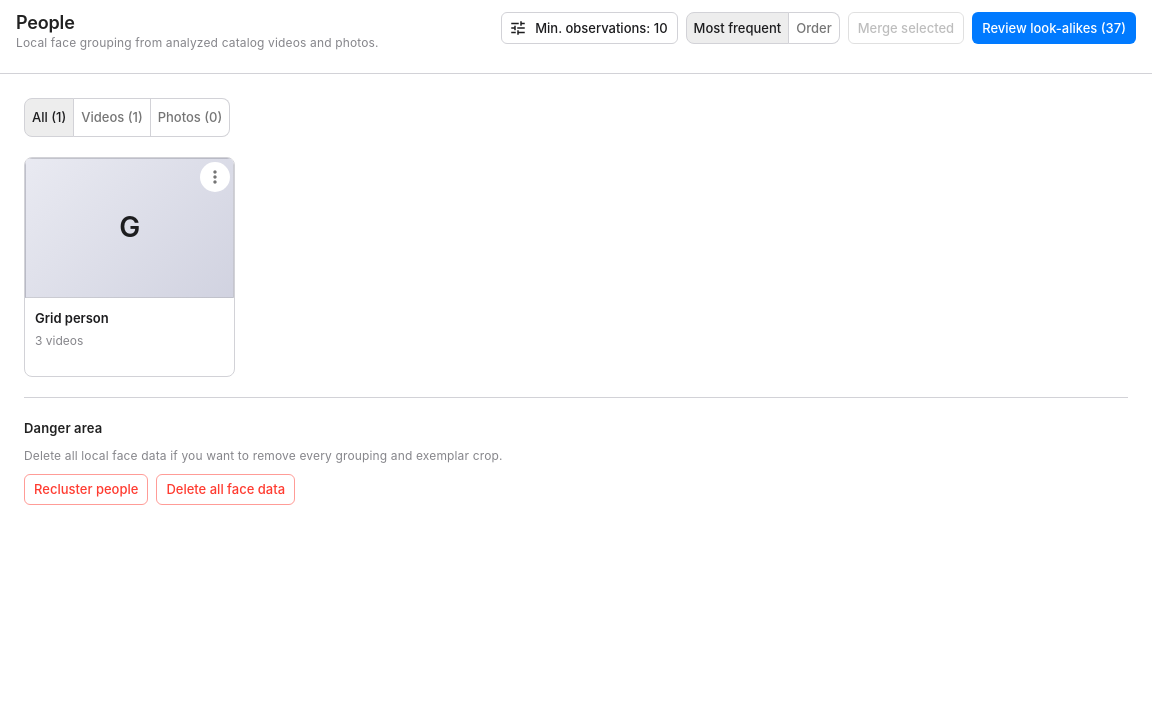
Osoby pair review entry point › goes disabled with no tooltip while a faces job runs
Step 1. Click the button with test id "people-recluster" → click(86, 490), box x1=24 y1=474 x2=148 y2=505
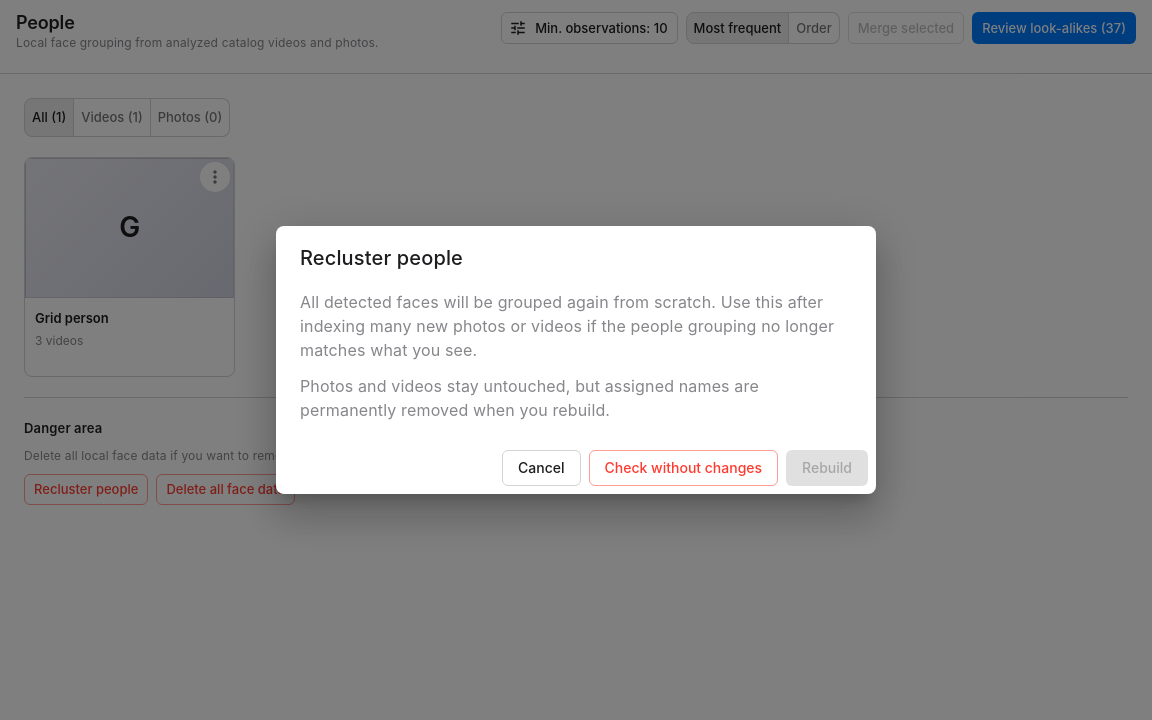
Step 2. Click the button with test id "people-recluster-dry-run" → click(683, 468), box x1=588 y1=450 x2=778 y2=486
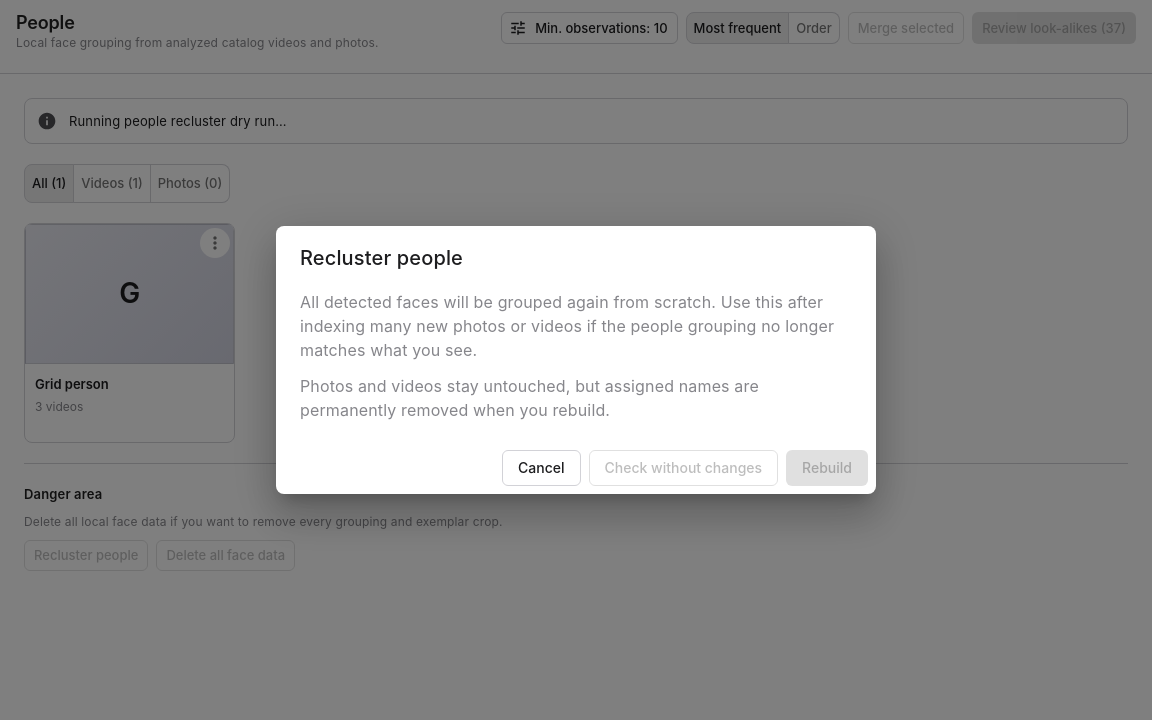
Now the message "Running people recluster dry run…" is shown, box x1=24 y1=98 x2=1128 y2=144
Now the button with test id "people-pair-review-open" is disabled, box x1=972 y1=12 x2=1136 y2=44
